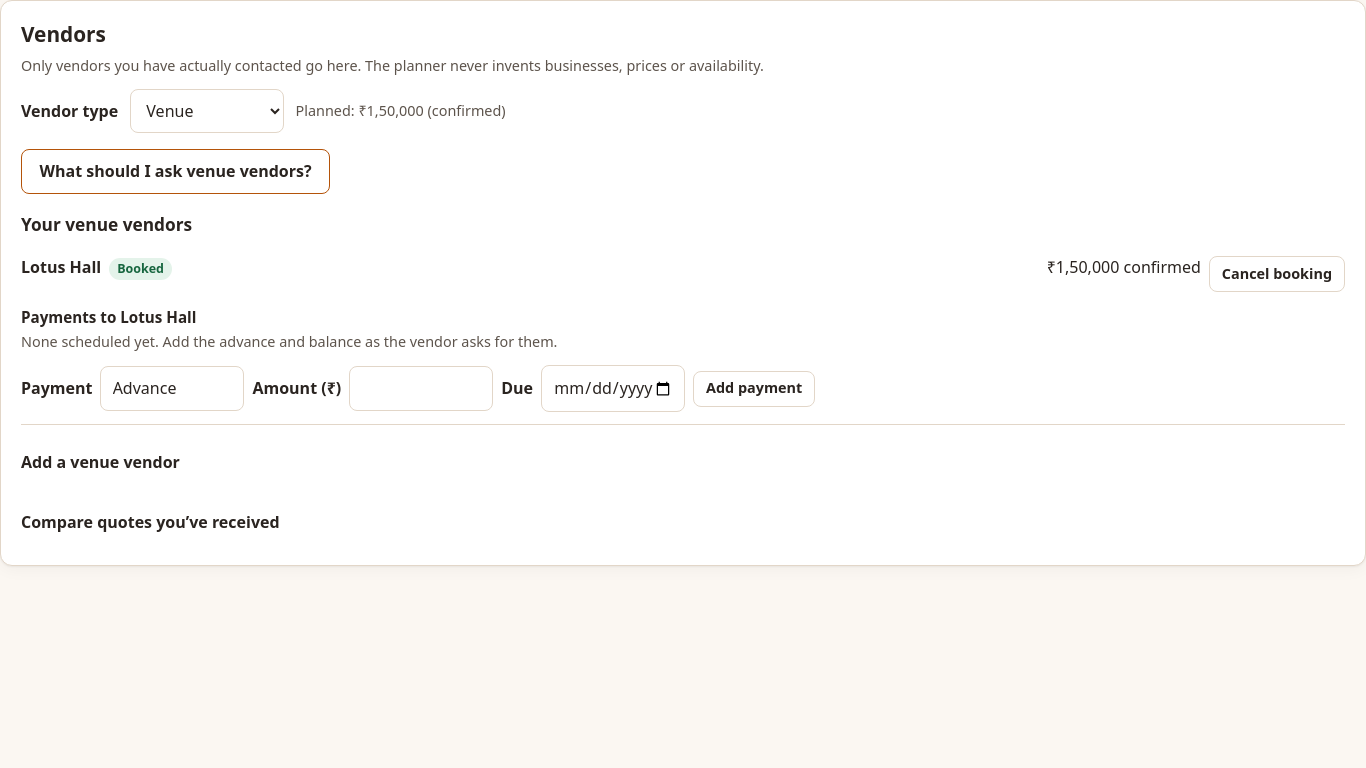
vendor payments › gives a general message when scheduling fails for another reason
Type "50000" into the number field labelled "Amount (₹)".
click(421, 389); type("50000")  # box [349,366,493,411]
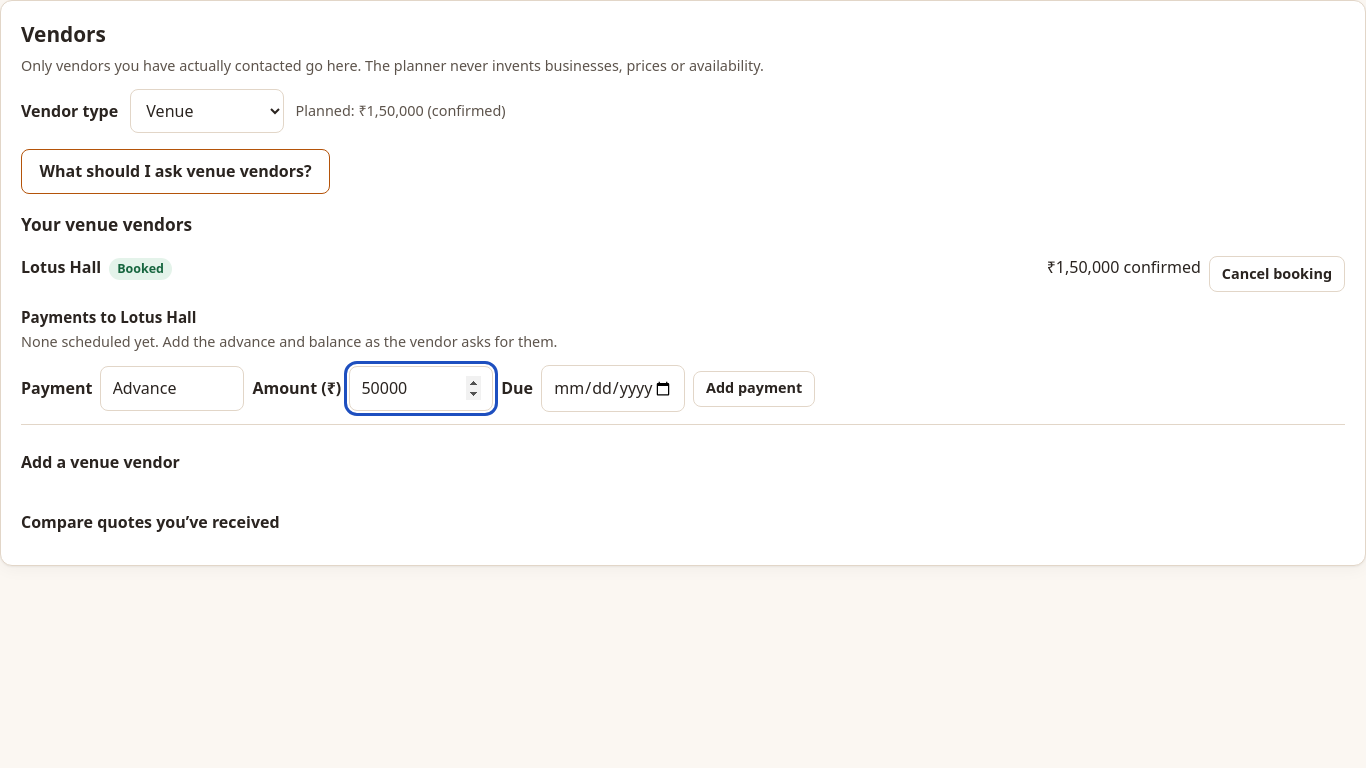
Type "2026-11-15" into the date field labelled "Due".
click(613, 389); type("2026-11-15")  # box [541,365,685,412]
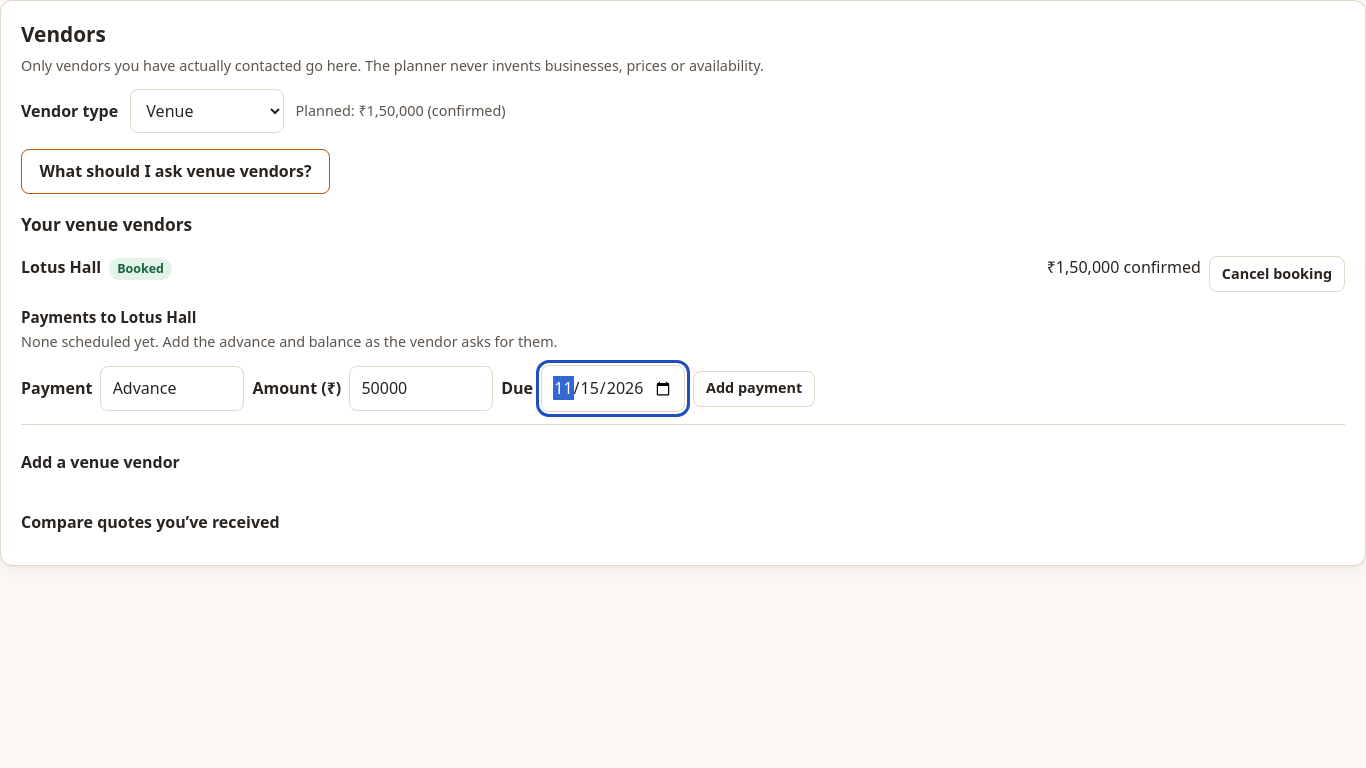
Click the button "Add payment".
click(754, 389)  # box [693,371,815,407]
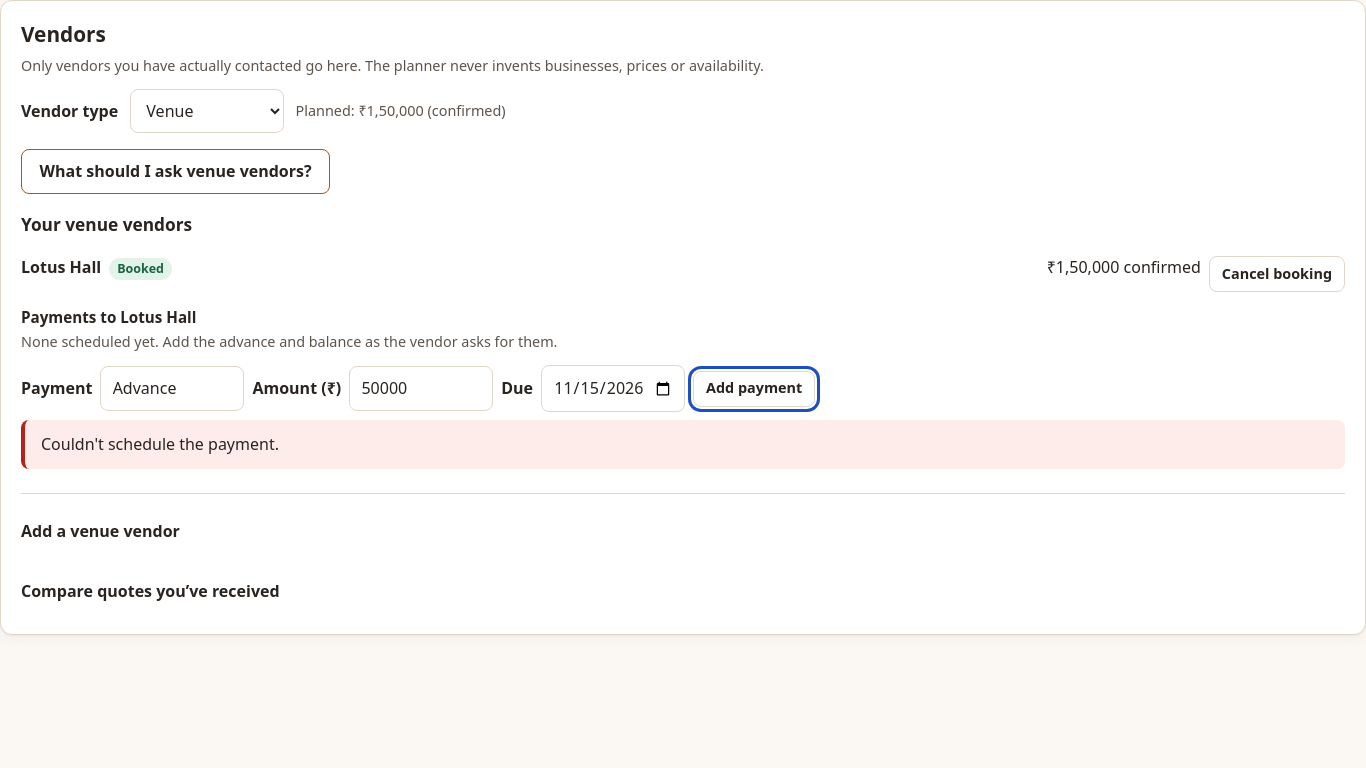
Check: the message reads "Couldn't schedule the payment.", box [41,433,279,455]
